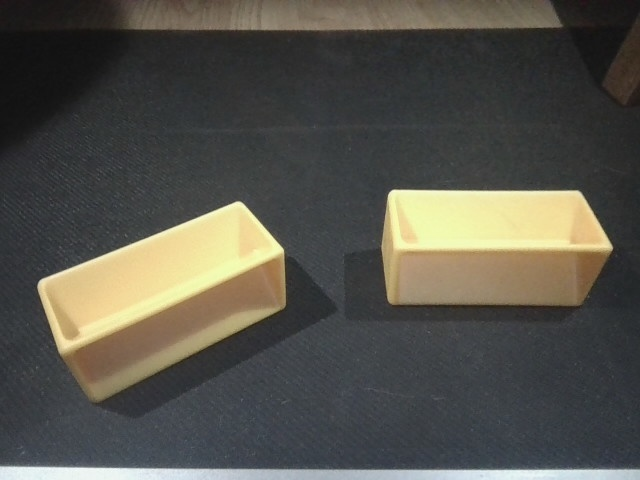YellowSample: (35, 198, 289, 401), (375, 182, 616, 314)
